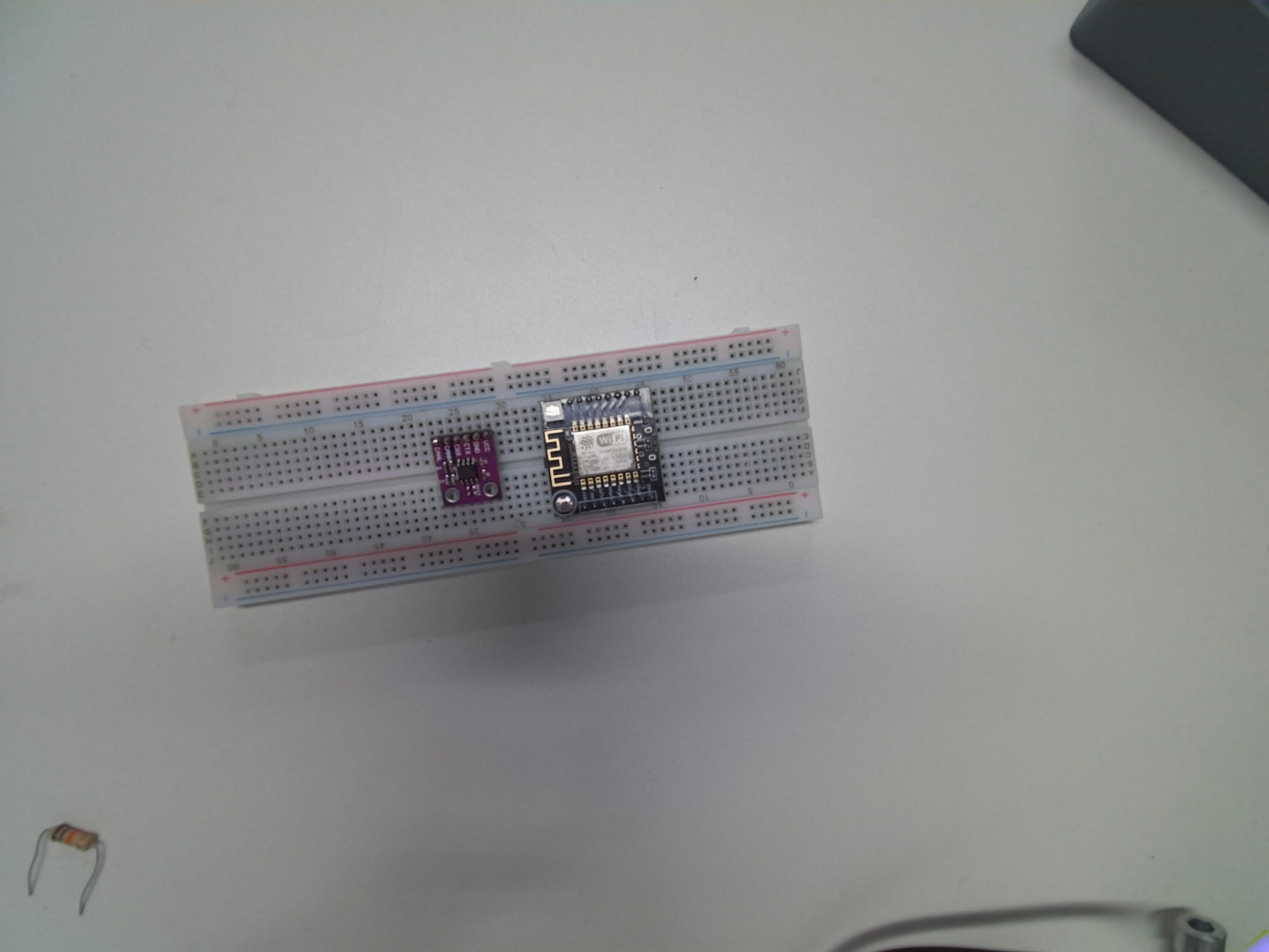base: (175, 323, 823, 609)
esp: (541, 388, 665, 520)
purple-board: (430, 425, 506, 509)
